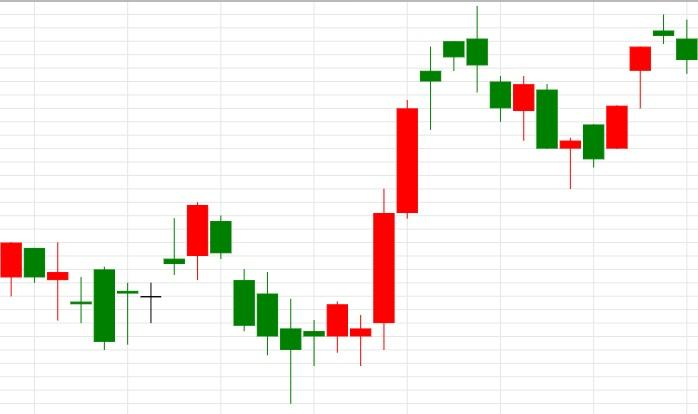evening_star_fall: (559, 15, 698, 189)
